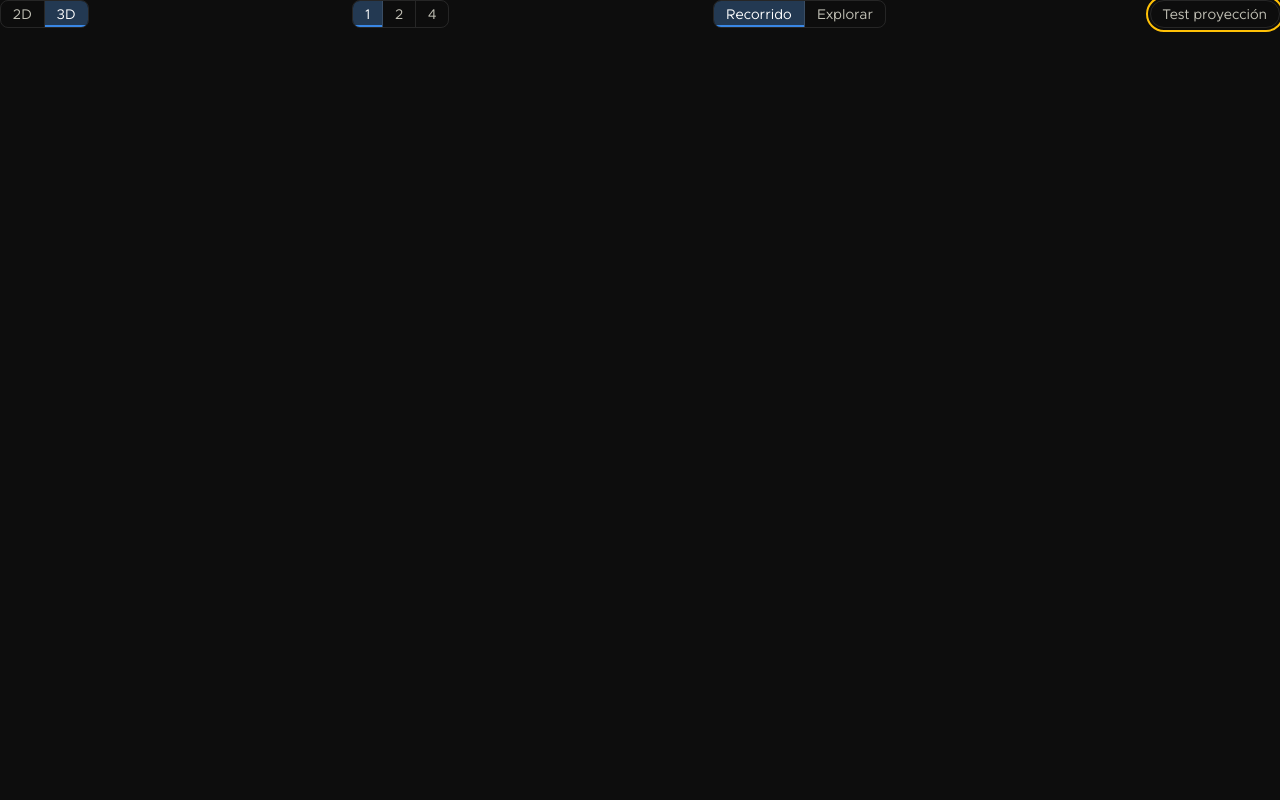
Scenario: the Test proyección button › closes with its close button and returns the focus to the button that opened it
This screenshot has width=1280, height=800.
Click the button "Test proyección": click(1215, 14) [1150,0,1279,28]
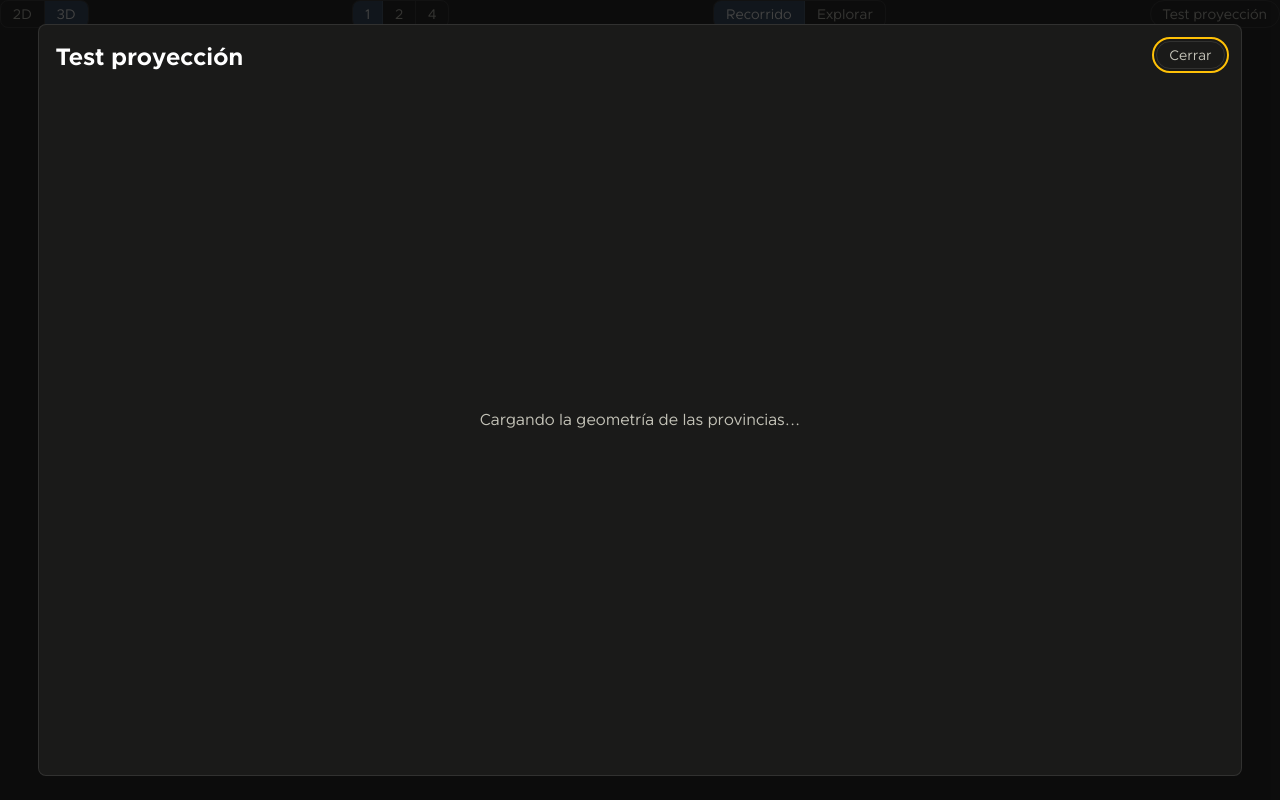
Click the button "Cerrar": click(1190, 55) [1156,41,1225,69]
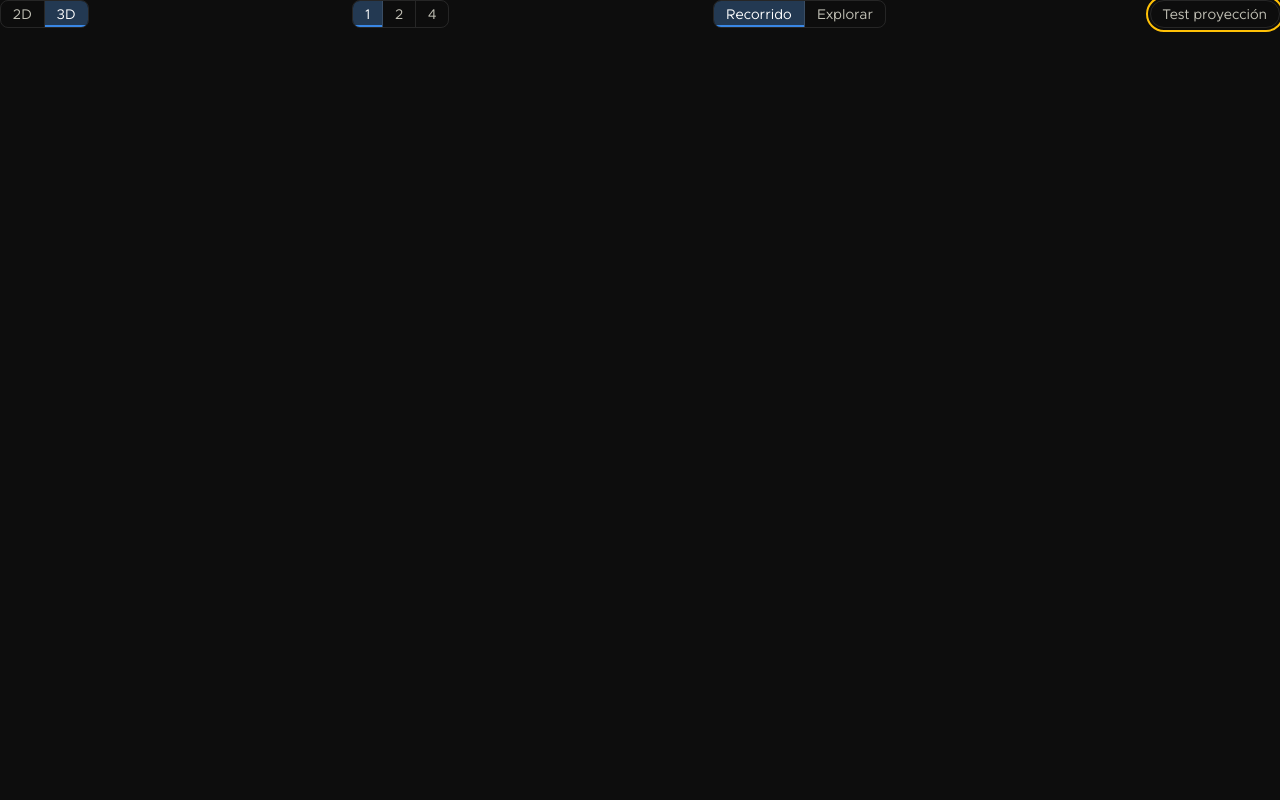
Expected: the dialog is gone
